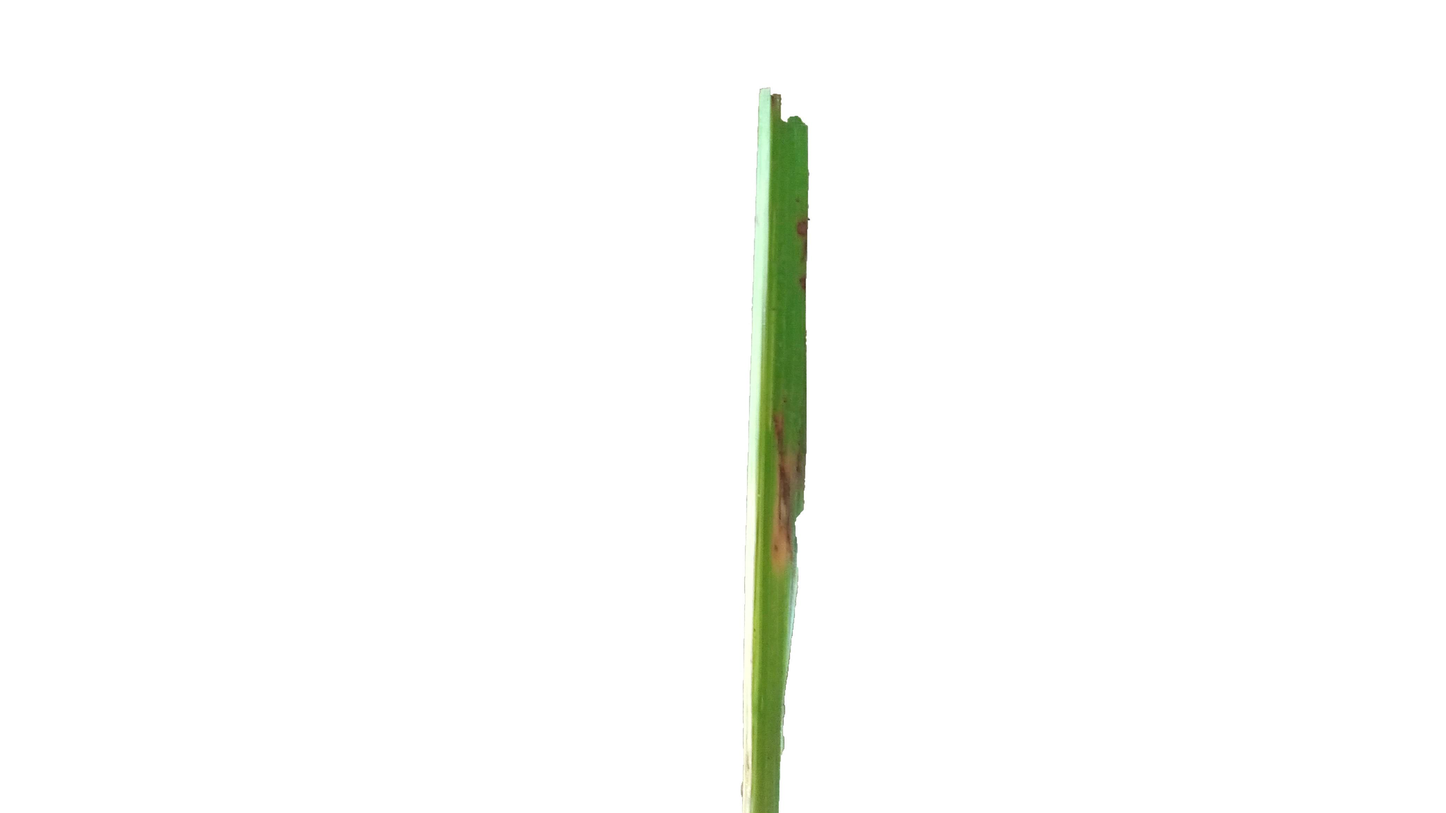Rice blast: (760, 416, 807, 575), (785, 205, 816, 293)
